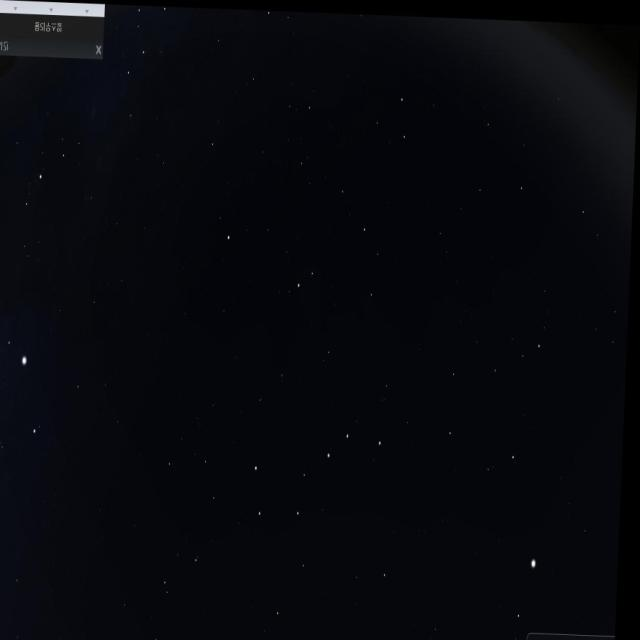cassiopeia: (113, 4, 179, 140)
ursa_major: (249, 408, 390, 546)
